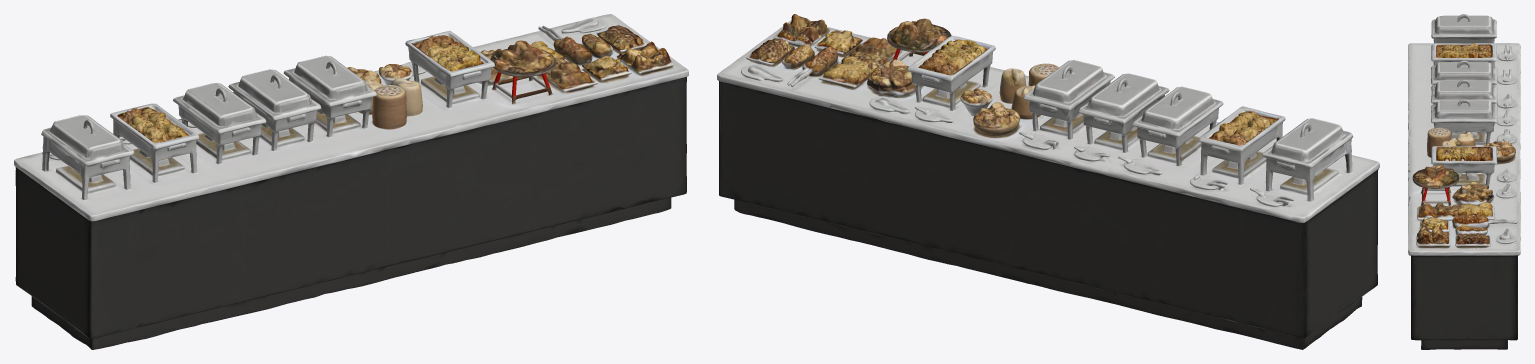
File: buffet.glb
3 views of the same model, side by side, from view 1: azimuth 30°, elevation 25°; view 2: azimuth 150°, elevation 25°; view 3: azimuth 270°, elevation 25° (orthographic). The views are drawn at different scales.
Visible parts, largest first — view 1: tripo_node_e7dc12f9-d621-4735-adea-725d8acfe139; view 2: tripo_node_e7dc12f9-d621-4735-adea-725d8acfe139; view 3: tripo_node_e7dc12f9-d621-4735-adea-725d8acfe139.
Boxes of the visible parts, bbox=[...] form: tripo_node_e7dc12f9-d621-4735-adea-725d8acfe139: bbox=[14, 14, 688, 349]; tripo_node_e7dc12f9-d621-4735-adea-725d8acfe139: bbox=[717, 14, 1379, 349]; tripo_node_e7dc12f9-d621-4735-adea-725d8acfe139: bbox=[1408, 14, 1520, 349].
Size of the model in its own units: 1 by 0.3274 by 0.2283.
Materials: 1 (1 with a texture image).
